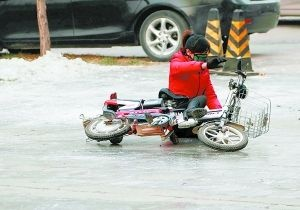falling: (156, 23, 230, 140)
